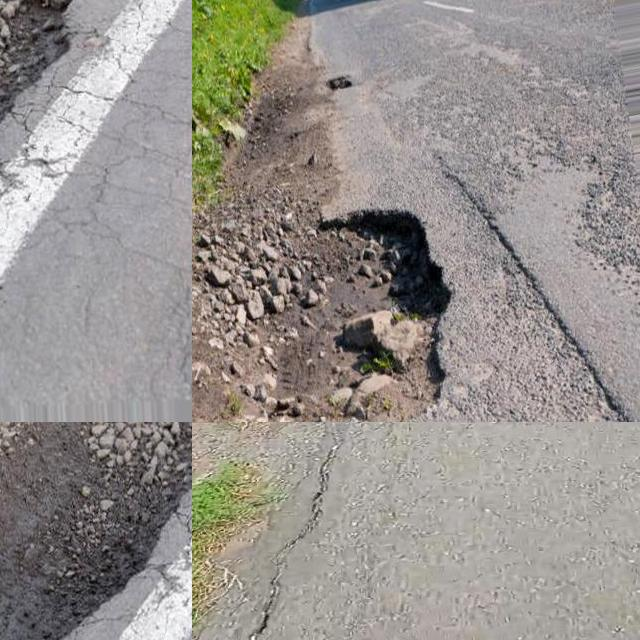Pinggir: (192, 422, 406, 640), (286, 199, 475, 422), (0, 422, 192, 640)
